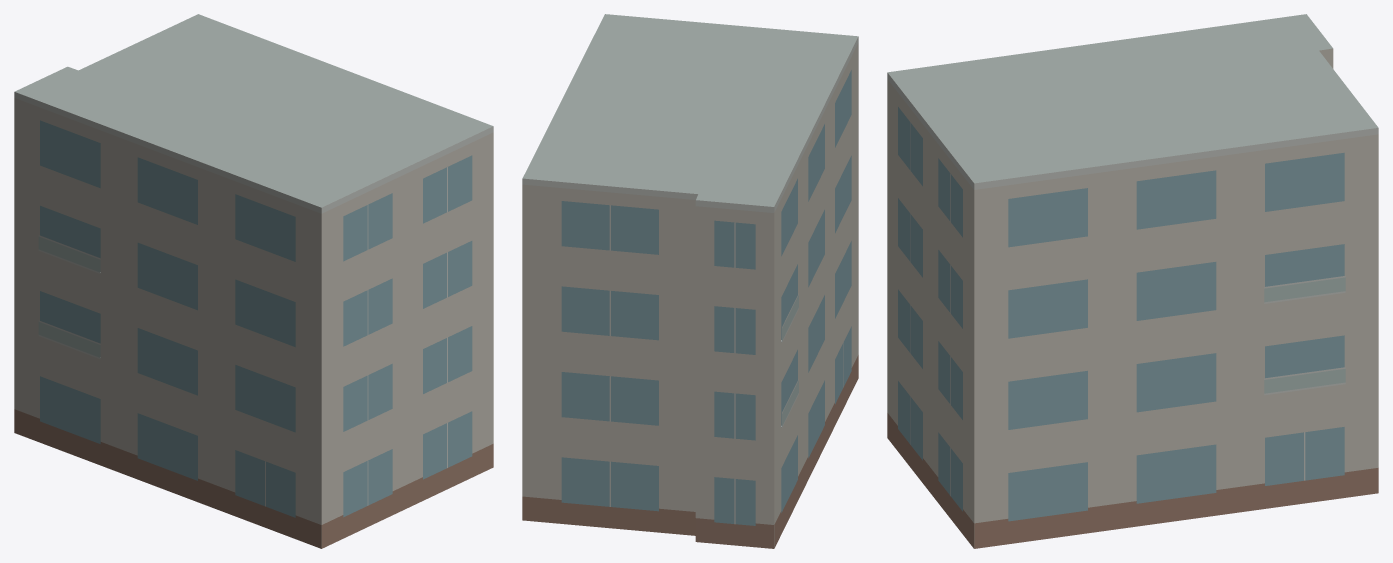
File: survey-upis-32926144.glb
3 renders of one model, left to right at view 1: azimuth 30°, elevation 25°; view 2: azimuth 150°, elevation 25°; view 3: azimuth 270°, elevation 25°, orthographic. The views are drawn at different scales.
Parts seen in each view (by area): view 1: survey-upis-32926144.tmp; view 2: survey-upis-32926144.tmp; view 3: survey-upis-32926144.tmp.
Boxes of the visible parts, box(x1,y1,x2,y2) form: survey-upis-32926144.tmp: box(14, 14, 493, 548); survey-upis-32926144.tmp: box(522, 14, 858, 548); survey-upis-32926144.tmp: box(887, 14, 1378, 548).
Bounding box in the file's own units: 13.63 × 13.7 × 16.7.
